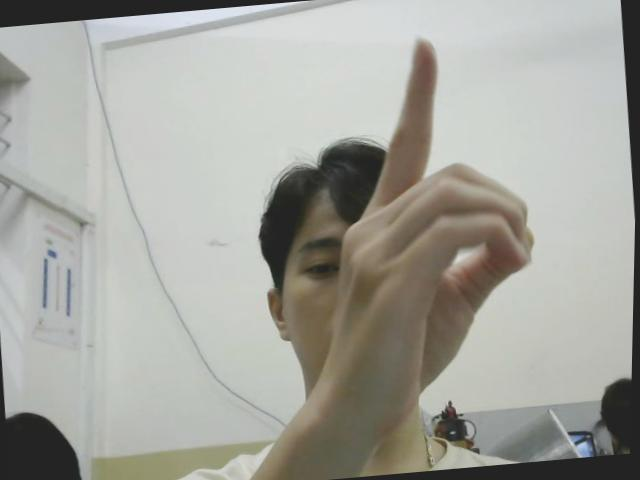D: (305, 23, 554, 424)
